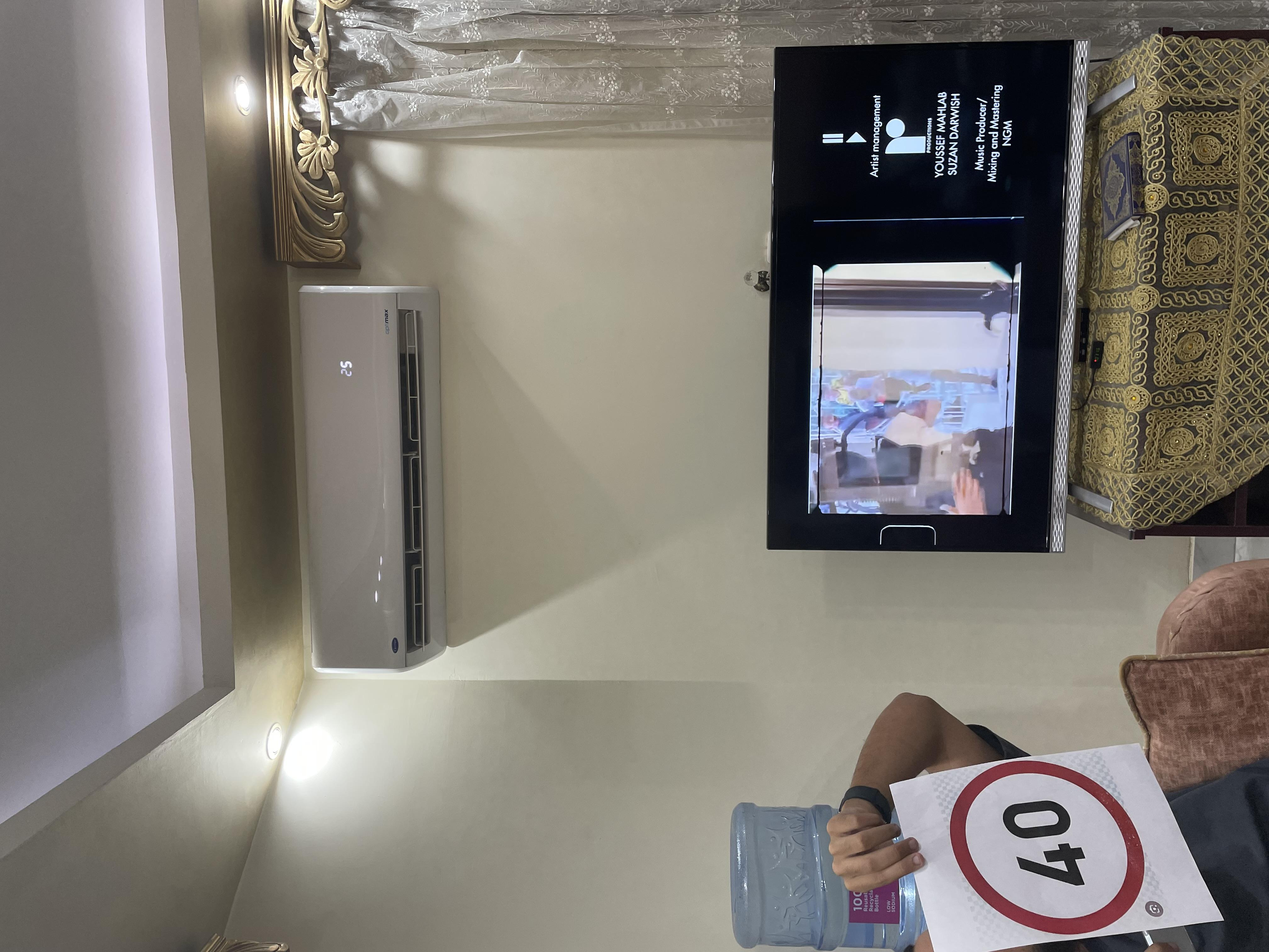40-Speed: (26, 711, 247, 865)
